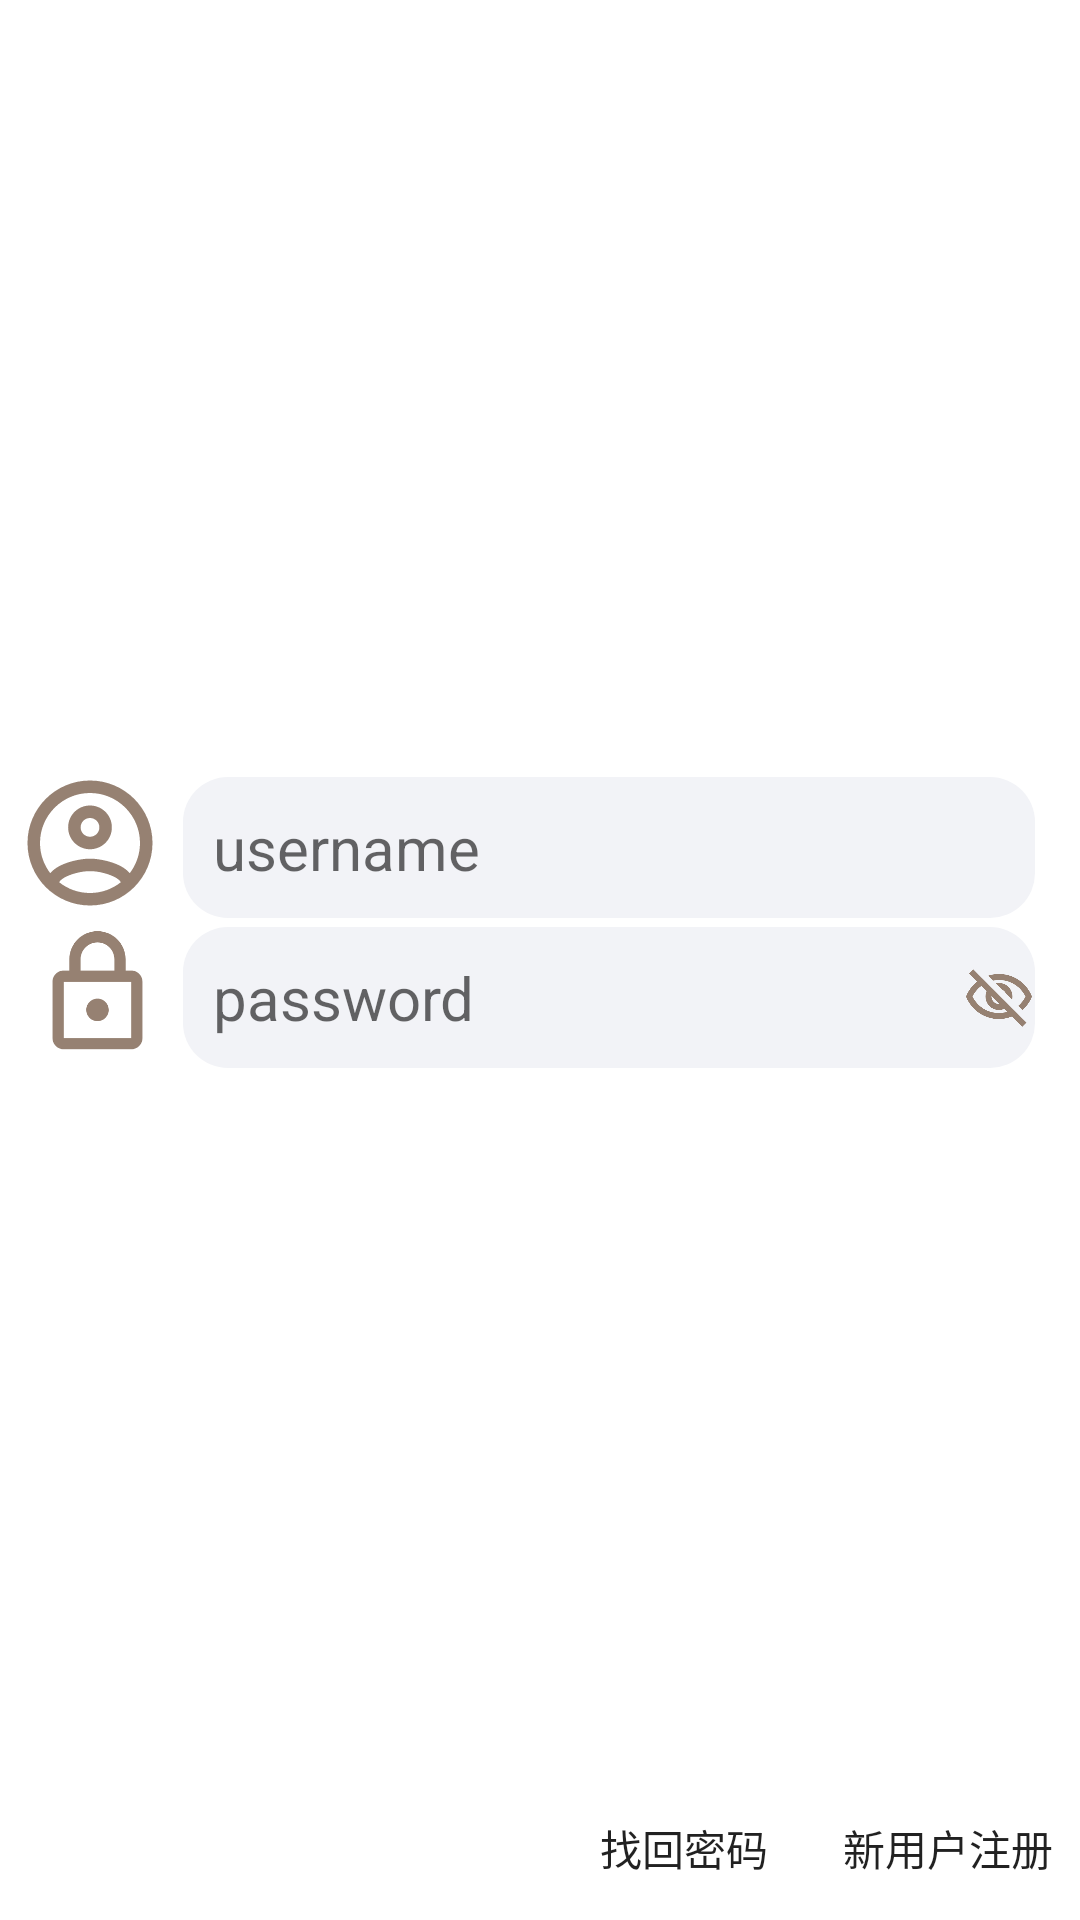

Icon bounding boxes for this 1080px x 1920px phone screenshot, format box=[x1, y1, x2, y2]:
account circle: box=[27, 780, 153, 906]
lock: box=[52, 931, 143, 1050]
visibility off: box=[966, 969, 1032, 1027]
